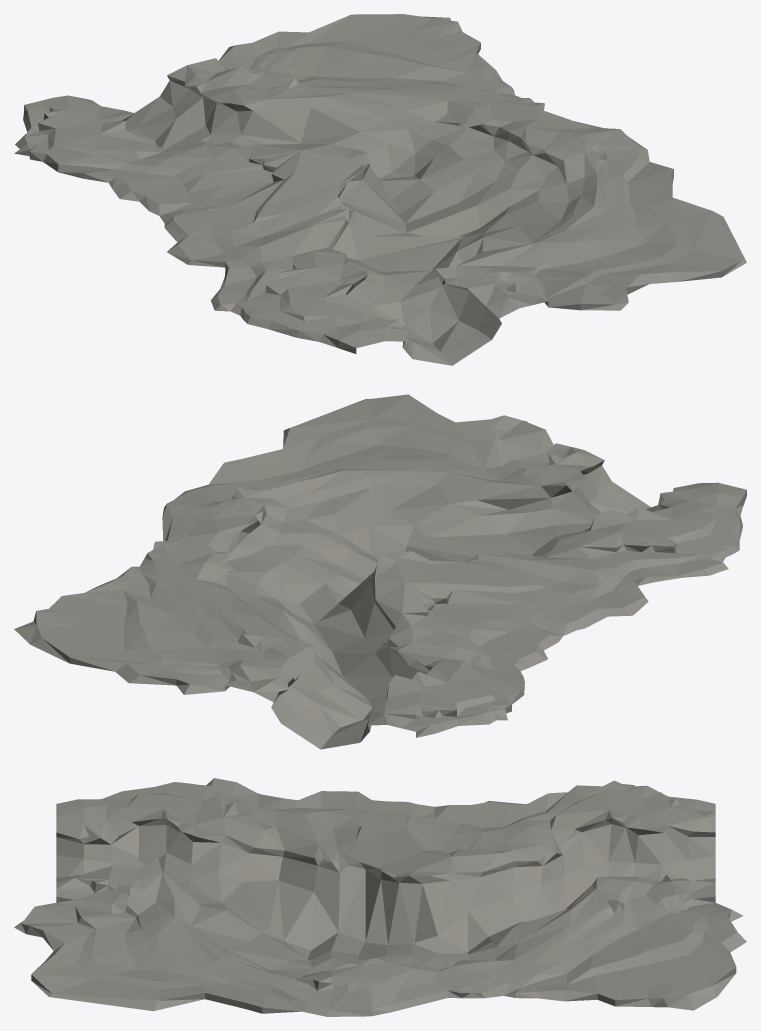
Rendered from river3.fbx.
3 renders of one model, top to bottom at view 1: azimuth 30°, elevation 25°; view 2: azimuth 150°, elevation 25°; view 3: azimuth 270°, elevation 25°, orthographic.
Parts seen in each view (by area): view 1: river8; view 2: river8; view 3: river8.
Part boxes in pixels (bbox=[...]): river8: bbox=[14, 14, 746, 365]; river8: bbox=[14, 394, 746, 749]; river8: bbox=[14, 778, 746, 1016].
Bounding box in the file's own units: 1276 × 151 × 1668.
